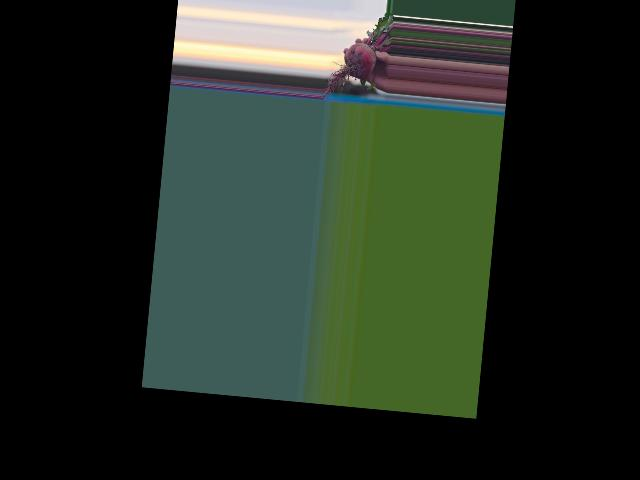beet: (322, 7, 394, 104)
